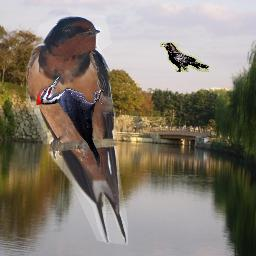Crow: (160, 42, 209, 72)
Swallow: (26, 15, 128, 245)
Woodpecker: (36, 76, 106, 174)
